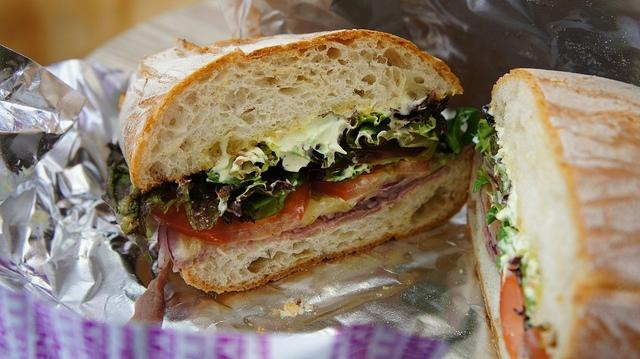lettuce: (227, 180, 296, 216), (346, 124, 421, 149), (471, 118, 497, 154), (215, 184, 243, 217), (482, 157, 498, 208), (235, 179, 268, 202), (404, 114, 436, 134), (498, 218, 519, 245), (486, 208, 498, 226)
tomato: (150, 183, 311, 244), (500, 275, 530, 359), (311, 174, 380, 200)
